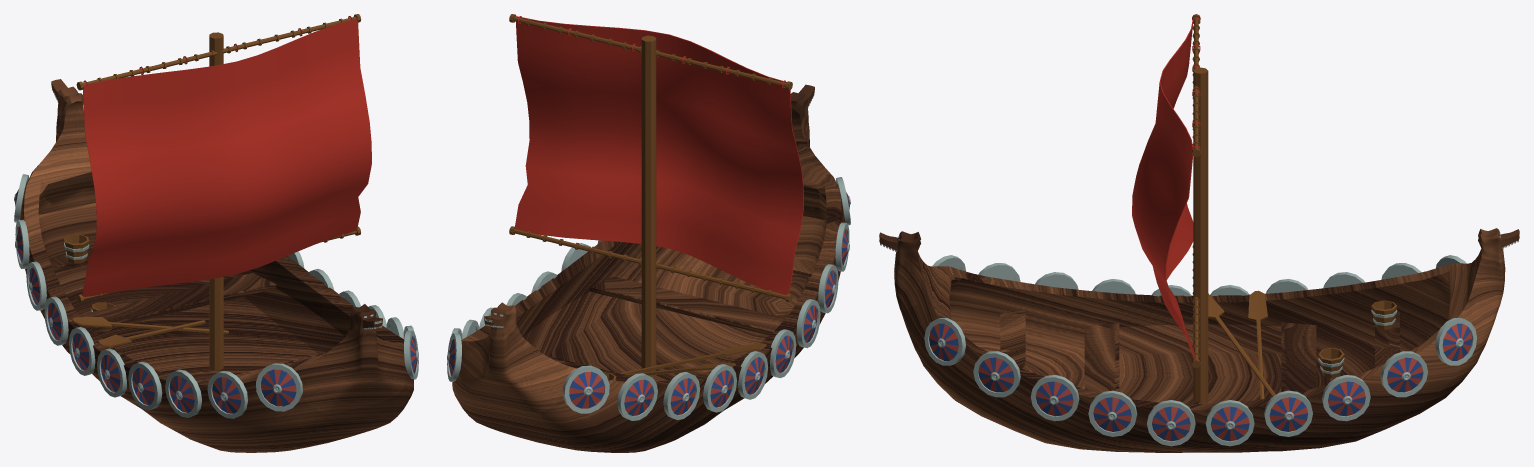
Rendered from viking_ship_low_poly.glb.
3 renders of one model, left to right at view 1: azimuth 30°, elevation 25°; view 2: azimuth 150°, elevation 25°; view 3: azimuth 270°, elevation 25°, orthographic.
Parts seen in each view (by area): view 1: Mesh_Sail, Mesh_MainShip, Mesh_Shields, Mesh_Pole, Mesh_Oar1, Mesh_Oar2, Mesh_Bucket2; view 2: Mesh_Sail, Mesh_MainShip, Mesh_Shields, Mesh_Pole, Mesh_Oar2, Mesh_Oar1; view 3: Mesh_MainShip, Mesh_Shields, Mesh_Sail, Mesh_Pole, Mesh_Oar1, Mesh_Oar2, Mesh_Bucket1, Mesh_Bucket2.
Part boxes in pixels (x1=…): Mesh_Sail: x1=82, y1=16, x2=371, y2=296; Mesh_MainShip: x1=20, y1=79, x2=413, y2=452; Mesh_Shields: x1=14, y1=174, x2=418, y2=418; Mesh_Pole: x1=76, y1=14, x2=361, y2=370; Mesh_Oar1: x1=72, y1=317, x2=228, y2=334; Mesh_Oar2: x1=98, y1=320, x2=205, y2=347; Mesh_Bucket2: x1=64, y1=234, x2=89, y2=263; Mesh_Sail: x1=515, y1=16, x2=803, y2=294; Mesh_MainShip: x1=452, y1=84, x2=845, y2=452; Mesh_Shields: x1=447, y1=177, x2=850, y2=420; Mesh_Pole: x1=509, y1=14, x2=792, y2=371; Mesh_Oar2: x1=619, y1=343, x2=766, y2=374; Mesh_Oar1: x1=625, y1=363, x2=735, y2=376; Mesh_MainShip: x1=879, y1=228, x2=1519, y2=452; Mesh_Shields: x1=924, y1=255, x2=1476, y2=446; Mesh_Sail: x1=1132, y1=17, x2=1200, y2=359; Mesh_Pole: x1=1192, y1=14, x2=1208, y2=402; Mesh_Oar1: x1=1248, y1=290, x2=1267, y2=399; Mesh_Oar2: x1=1208, y1=293, x2=1275, y2=396; Mesh_Bucket1: x1=1318, y1=347, x2=1344, y2=378; Mesh_Bucket2: x1=1371, y1=300, x2=1397, y2=329.
Bounding box in the file's own units: 4.01 × 4.88 × 8.02.
Materials: 6 (1 with a texture image).
